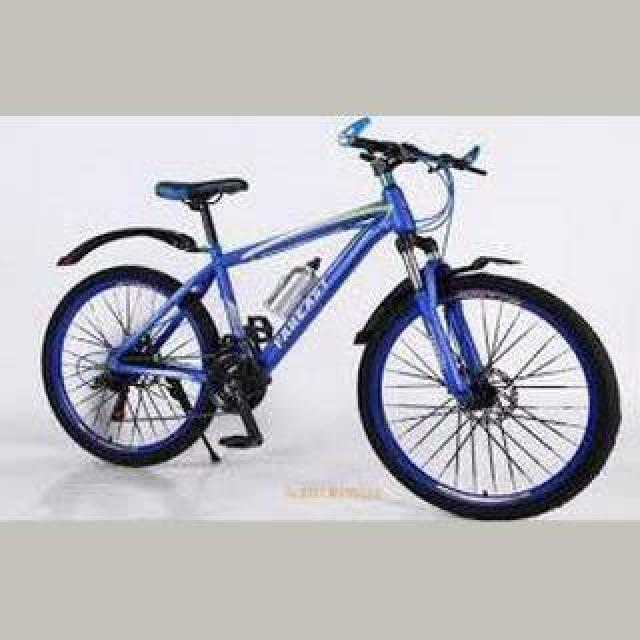Person: (38, 116, 624, 522)
